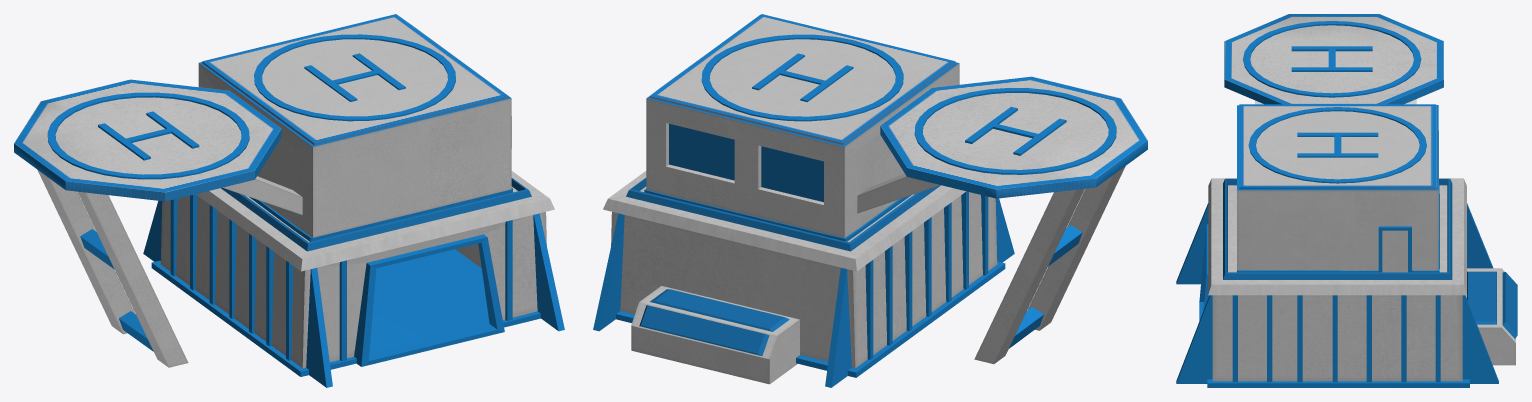
The model's file is Helipad Base.fbx.
The picture shows the model from 3 angles, left to right: view 1: azimuth 30°, elevation 25°; view 2: azimuth 150°, elevation 25°; view 3: azimuth 270°, elevation 25°; orthographic projection. The views are drawn at different scales.
Parts seen in each view (by area): view 1: Cut_1 (×2), Cut_33, Cut_31, Cut_32, Cut_12, Cut_13, Cut_14, Cut_24, Cut_21, Cut_26, Cut_23, Cut_22 (+14 smaller); view 2: Cut_32, Cut_1 (×3), Cut_34, Cut_30, Cut_28, Cut_12, Cut_14, Cut_13, Cut_24, Cut_21, Cut_22, Cut_23 (+15 smaller); view 3: Cut_33, Cut_34, Cut_35, Cut_29, Cut_12, Cut_13, Cut_1 (×2), Cut_24, Cut_21, Cut_14, Cut_22, Cut_28 (+13 smaller).
Part boxes in pixels (x1=…): Cut_1 (×2): x1=37, y1=170, x2=440, y2=387; Cut_33: x1=372, y1=171, x2=564, y2=347; Cut_31: x1=267, y1=117, x2=429, y2=241; Cut_32: x1=143, y1=187, x2=249, y2=319; Cut_12: x1=58, y1=79, x2=281, y2=143; Cut_13: x1=89, y1=130, x2=277, y2=201; Cut_14: x1=14, y1=97, x2=144, y2=198; Cut_24: x1=264, y1=74, x2=439, y2=145; Cut_21: x1=348, y1=41, x2=507, y2=114; Cut_26: x1=418, y1=142, x2=512, y2=215; Cut_23: x1=202, y1=43, x2=347, y2=108; Cut_22: x1=275, y1=14, x2=433, y2=73; Cut_32: x1=770, y1=199, x2=926, y2=387; Cut_1 (×3): x1=657, y1=166, x2=1125, y2=379; Cut_34: x1=593, y1=171, x2=741, y2=331; Cut_30: x1=749, y1=90, x2=921, y2=241; Cut_28: x1=644, y1=76, x2=759, y2=220; Cut_12: x1=880, y1=86, x2=1031, y2=194; Cut_14: x1=979, y1=107, x2=1147, y2=198; Cut_13: x1=950, y1=76, x2=1126, y2=157; Cut_24: x1=798, y1=31, x2=955, y2=99; Cut_21: x1=688, y1=14, x2=830, y2=83; Cut_22: x1=650, y1=68, x2=797, y2=126; Cut_23: x1=769, y1=83, x2=905, y2=145; Cut_33: x1=1176, y1=226, x2=1323, y2=387; Cut_34: x1=1381, y1=228, x2=1498, y2=387; Cut_35: x1=1319, y1=210, x2=1466, y2=387; Cut_29: x1=1278, y1=189, x2=1386, y2=272; Cut_12: x1=1277, y1=44, x2=1443, y2=104; Cut_13: x1=1224, y1=35, x2=1369, y2=104; Cut_1 (×2): x1=1176, y1=178, x2=1517, y2=325; Cut_24: x1=1239, y1=104, x2=1347, y2=157; Cut_21: x1=1239, y1=145, x2=1369, y2=189; Cut_14: x1=1238, y1=14, x2=1443, y2=48; Cut_22: x1=1348, y1=135, x2=1436, y2=189; Cut_28: x1=1386, y1=146, x2=1439, y2=272.
Size of the model in its own units: 1271 by 592 by 961.
1 material, 1 textured.
